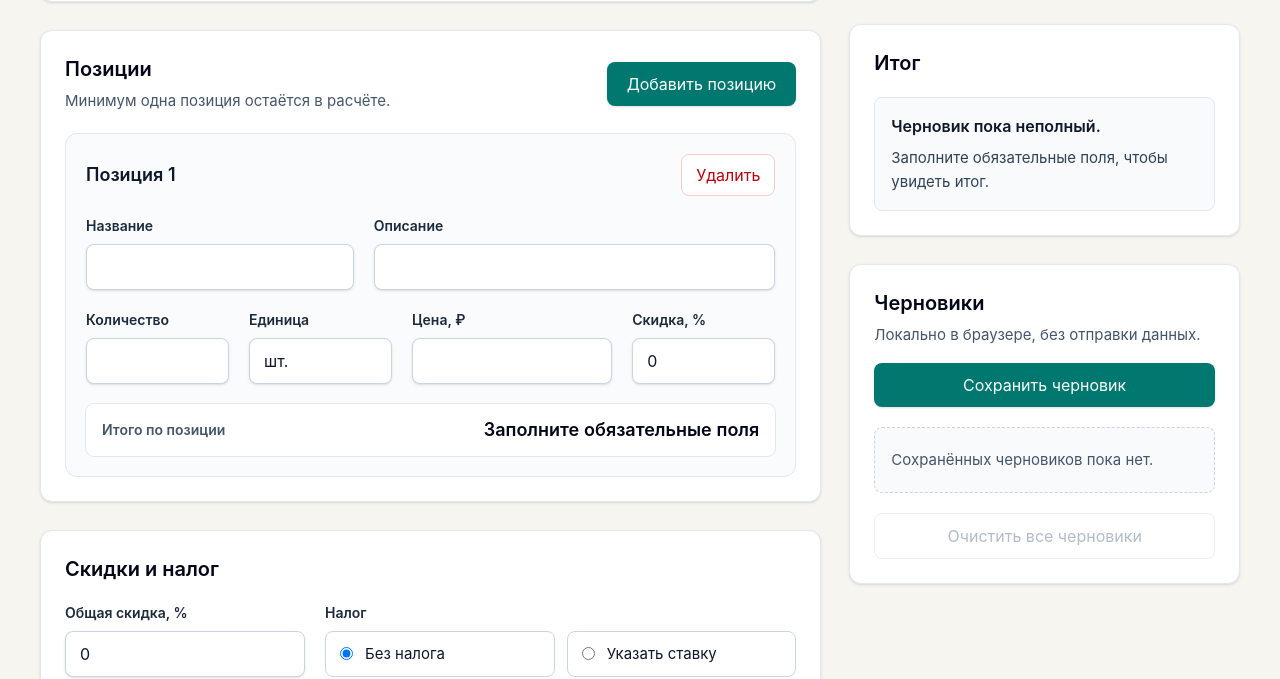
Test: QuoteFlow UI › shows a field error for invalid discount after blur
(page scrolled)
Step 1. Replace the text in the field labelled "Скидка, %" with "150" → coordinates (704, 361), box [632, 338, 775, 384]
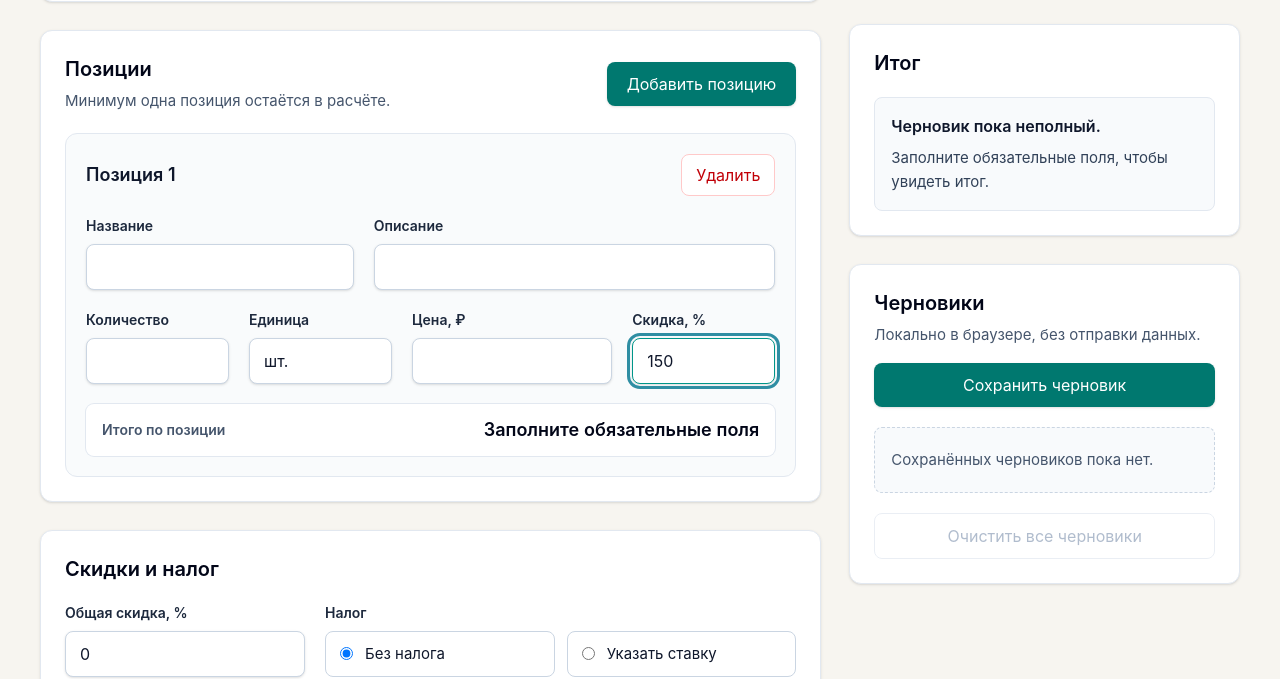
Step 2. Press Tab
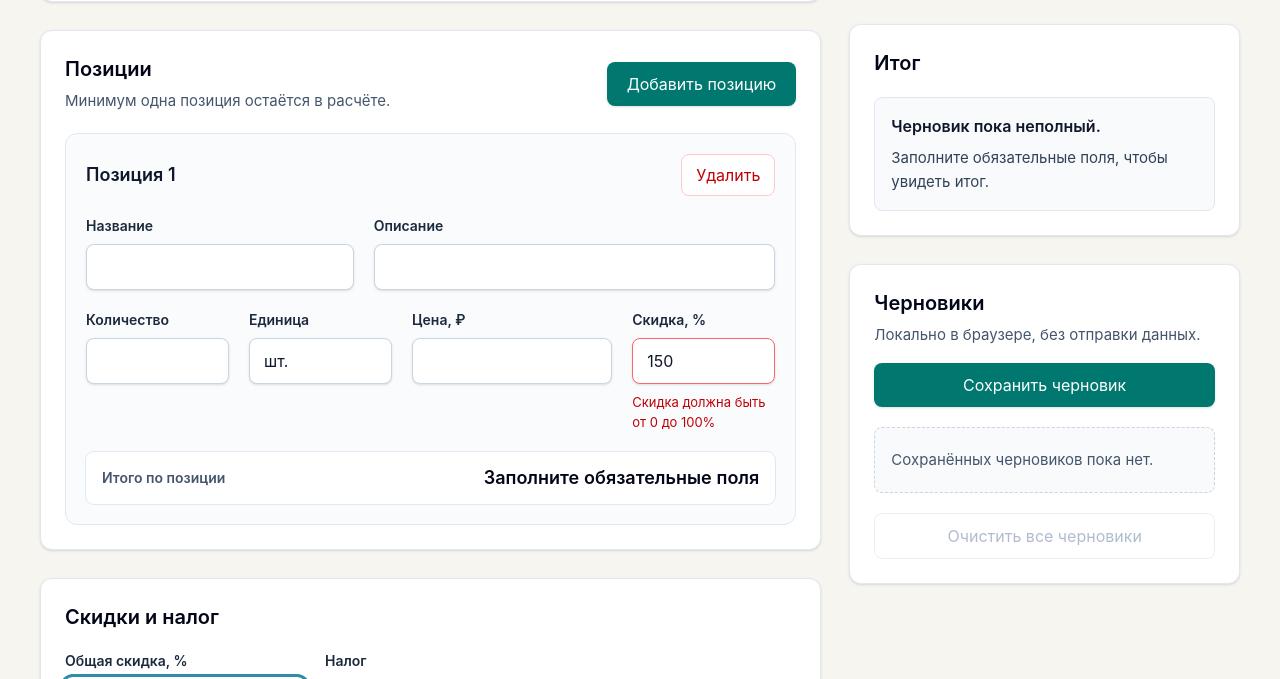
Expected: the text "Скидка должна быть от 0 до 100%" is shown, [632, 392, 775, 432]
